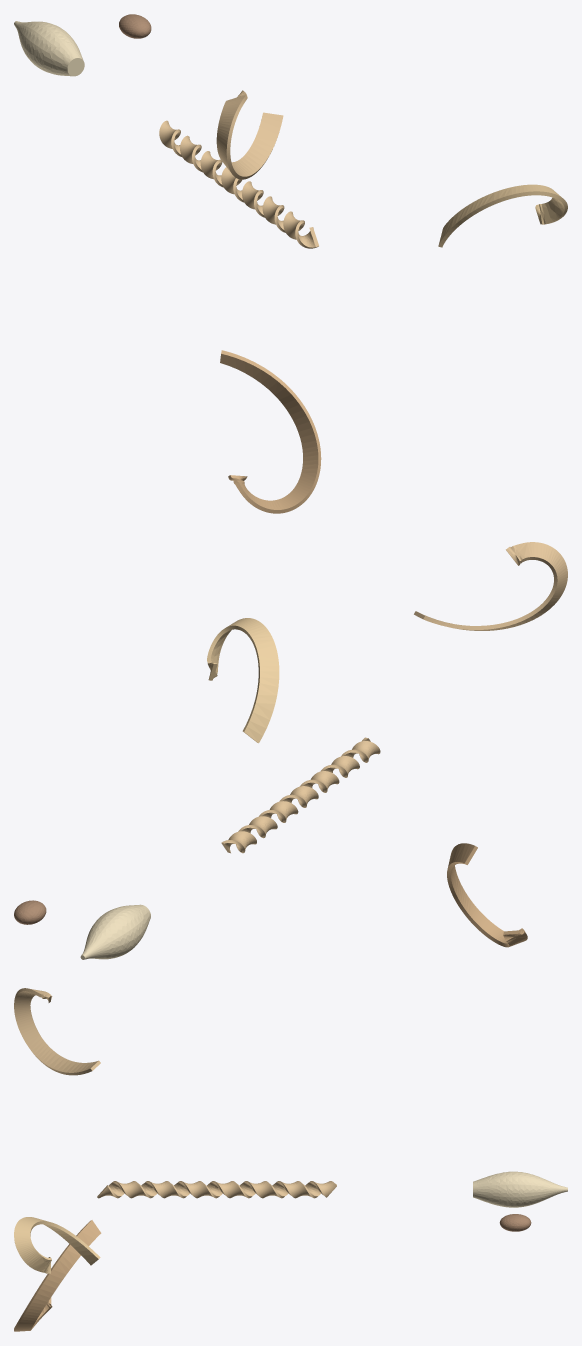
File: exploded_carrier.glb
3 renders of one model, top to bottom at view 1: azimuth 30°, elevation 25°; view 2: azimuth 150°, elevation 25°; view 3: azimuth 270°, elevation 25°, orthographic. The views are drawn at different scales.
Visible parts, largest first — view 1: tail3, body, tail2, tip, tail1, seed; view 2: tail1, body, tip, tail2, tail3, seed; view 3: body, tip, tail2, tail3, tail1, seed.
Part boxes in pixels (x1,y1,x2,y2): tail3: (220, 350, 321, 513); body: (159, 120, 318, 248); tail2: (216, 90, 283, 179); tip: (14, 21, 84, 76); tail1: (438, 184, 567, 247); seed: (119, 14, 151, 38); tail1: (207, 618, 279, 743); body: (221, 737, 380, 853); tip: (80, 904, 150, 959); tail2: (414, 542, 567, 630); tail3: (447, 843, 527, 947); seed: (14, 900, 46, 924); body: (97, 1181, 336, 1198); tip: (473, 1171, 567, 1207); tail2: (14, 988, 100, 1075); tail3: (14, 1220, 101, 1331); tail1: (14, 1217, 100, 1273); seed: (499, 1214, 531, 1231).
Size of the model in its own units: 48.28 by 55.1 by 84.48.
